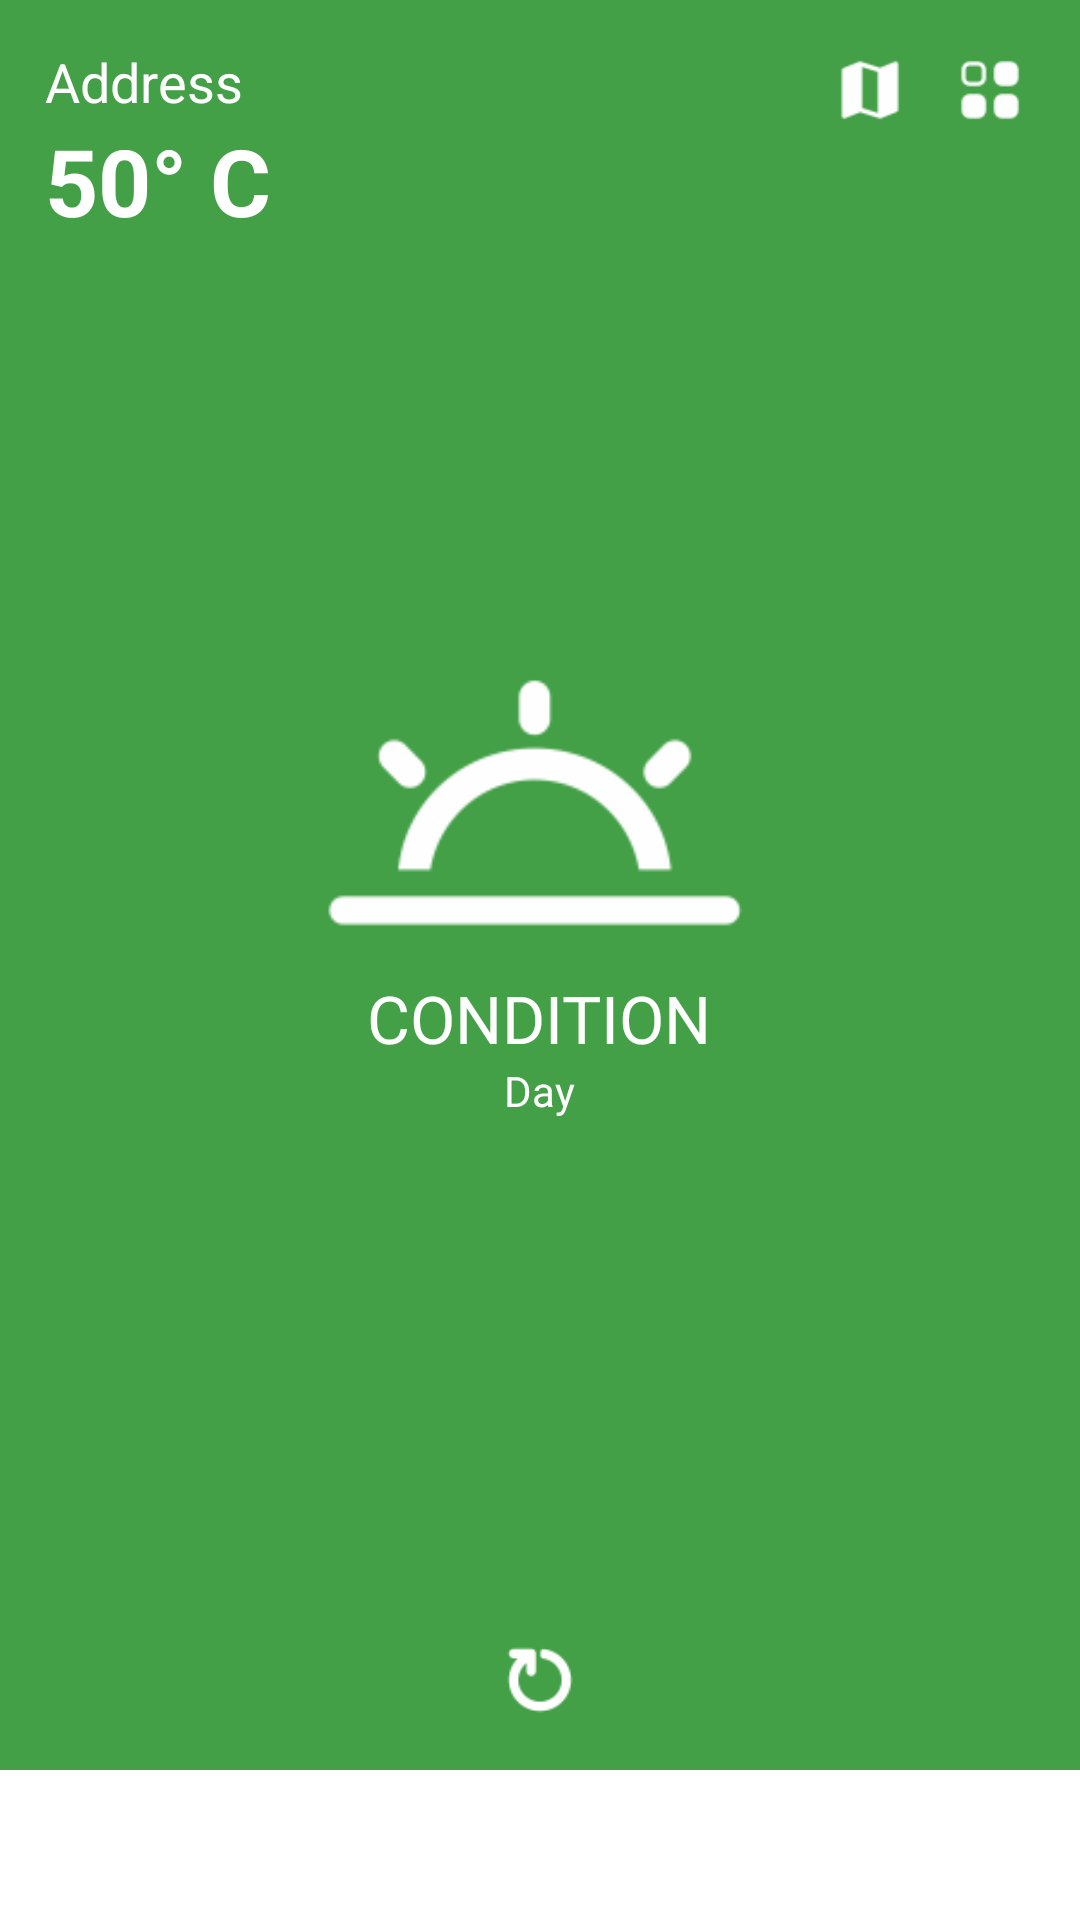

Icon click points for this 1080*1920 phone screenshot, format (x=x, y=y):
map: (x=870, y=90)
refresh: (x=540, y=1680)
